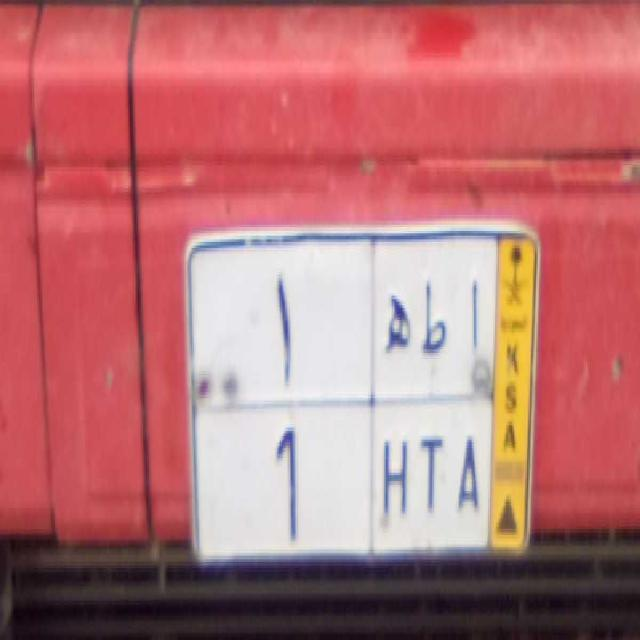license_plate: (196, 399, 492, 560)
